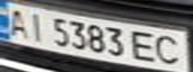3: (103, 25, 130, 58), (66, 19, 87, 52)
5: (45, 15, 72, 48)
8: (84, 21, 106, 55)
A: (3, 6, 33, 38)
C: (151, 33, 190, 67)
E: (127, 29, 163, 63)
I: (21, 10, 51, 43)
